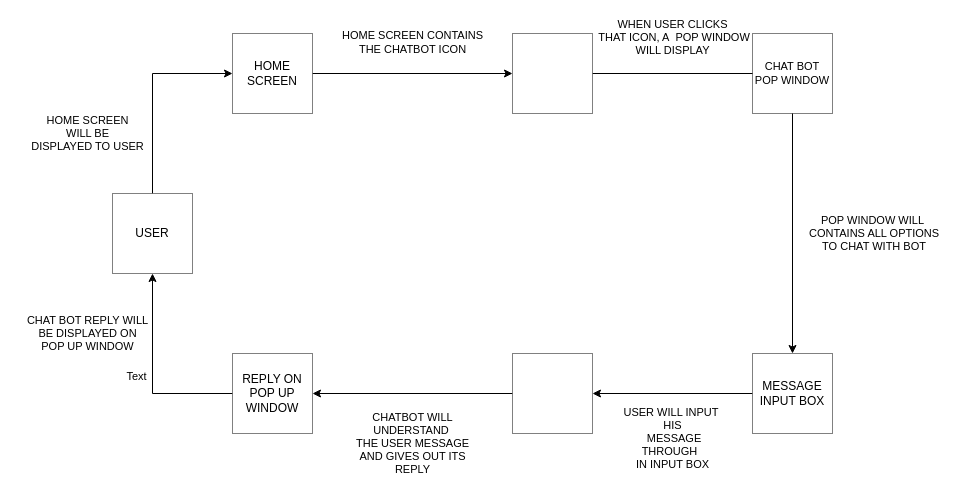
This 964x495 diagram has some shape labels left out. Each missing label, with the box of its shape:
CHAT BOT ICON: (512, 32, 592, 114)
CHAT BOT REPLY: (512, 352, 592, 434)
